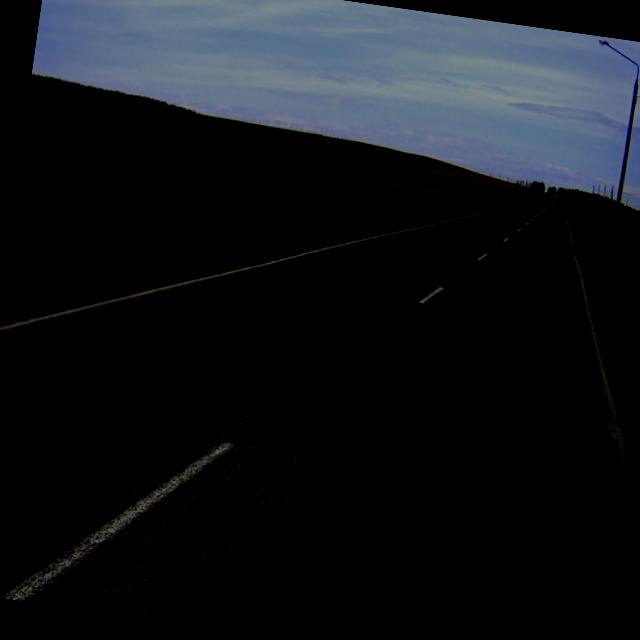road: (0, 193, 628, 640)
